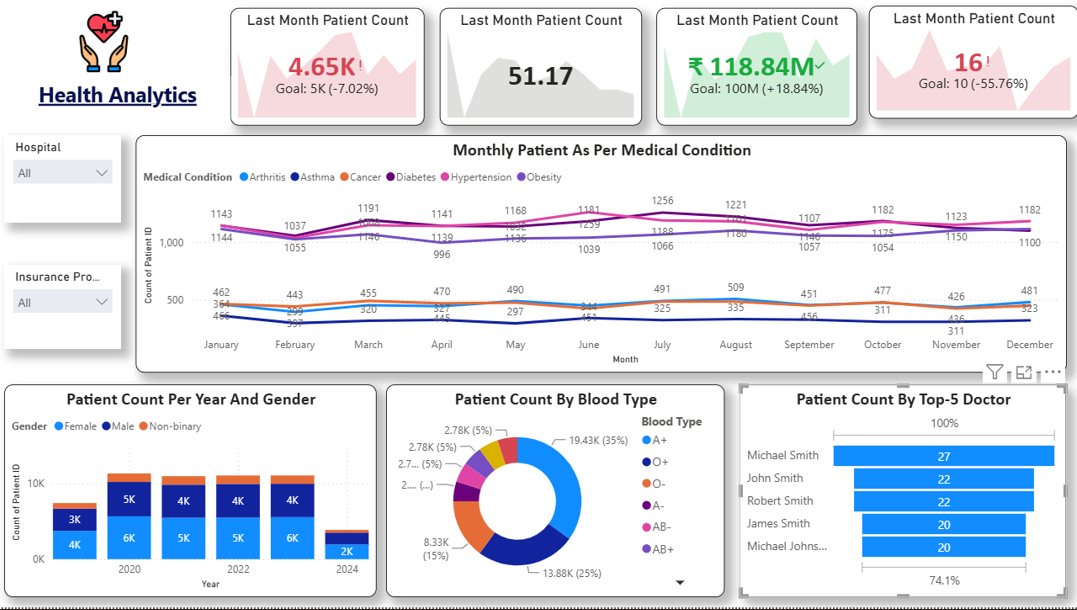

The dashboard page shown, as its layout file describes it:
{"tool":"powerbi","page":{"name":"Page 1","canvas":[1280,720],"ordinal":0},"visuals":[{"type":"kpi","title":"Last Month Patient Count ","fields":{"Indicator":["Count(Data.Patient ID)"],"TrendLine":["Data.Date of Admission.Variation.Date Hierarchy.Month"],"Goal":["Data.Monthl PC Target"]},"box":[279.4,22.8,225.2,136.8],"z":0},{"type":"kpi","title":"Last Month Patient Count ","fields":{"Indicator":["Avg(Data.Age)"],"TrendLine":["Data.Date of Admission.Variation.Date Hierarchy.Month"]},"box":[521.7,22.8,235.2,136.8],"z":1000},{"type":"kpi","title":"Last Month Patient Count ","fields":{"TrendLine":["Data.Date of Admission.Variation.Date Hierarchy.Month"],"Goal":["Data.Billing Target"],"Indicator":["Sum(Data.Billing Amount)"]},"box":[774,22.8,233.8,136.8],"z":2000},{"type":"kpi","title":"Last Month Patient Count ","fields":{"TrendLine":["Data.Date of Admission.Variation.Date Hierarchy.Month"],"Indicator":["Avg(Data.Stay Duration)"],"Goal":["Avg(Data.Duratin Target)"]},"box":[1020.6,21.4,243.7,131.1],"z":3000},{"type":"lineChart","title":"Monthly Patient As Per Medical Condition","fields":{"Category":["Data.Date of Admission.Variation.Date Hierarchy.Month"],"Y":["CountNonNull(Data.Patient ID)"],"Series":["Data.Medical Condition"]},"box":[17.1,171,1234.4,276.5],"z":4000},{"type":"columnChart","title":"Patient Count Per Year And Gender","fields":{"Y":["Count(Data.Patient ID)"],"Category":["Data.Date of Admission.Variation.Date Hierarchy.Year"],"Series":["Data.Gender"]},"box":[17.1,461.8,433.3,258],"z":5000},{"type":"donutChart","title":"Patient Count With Blood Type","fields":{"Y":["Count(Data.Patient ID)"],"Category":["Data.Blood Type"]},"box":[464.7,461.8,393.4,258],"z":6000},{"type":"funnel","title":"Patient Count With Blood Type","fields":{"Y":["Count(Data.Patient ID)"],"Category":["Data.Doctor"]},"box":[870.9,461.8,380.6,258],"z":7000},{"type":"slicer","fields":{"Values":["Data.Hospital"]},"box":[17.1,22.8,249.4,68.4],"z":7001},{"type":"slicer","fields":{"Values":["Data.Insurance Provider"]},"box":[17.1,91.2,249.4,68.4],"z":7002}]}

Visuals, with their boxes in screenshot pixels (x1, y1, x2, y2), scaled from the page's 1280x720 canvas onto the 1077x610 screenshot:
"Last Month Patient Count " kpi: 235,19,425,135
"Last Month Patient Count " kpi: 439,19,637,135
"Last Month Patient Count " kpi: 651,19,848,135
"Last Month Patient Count " kpi: 859,18,1064,129
"Monthly Patient As Per Medical Condition" lineChart: 14,145,1053,379
"Patient Count Per Year And Gender" columnChart: 14,391,379,609
"Patient Count With Blood Type" donutChart: 391,391,722,609
"Patient Count With Blood Type" funnel: 733,391,1053,609
slicer - Data.Hospital: 14,19,224,77
slicer - Data.Insurance Provider: 14,77,224,135
